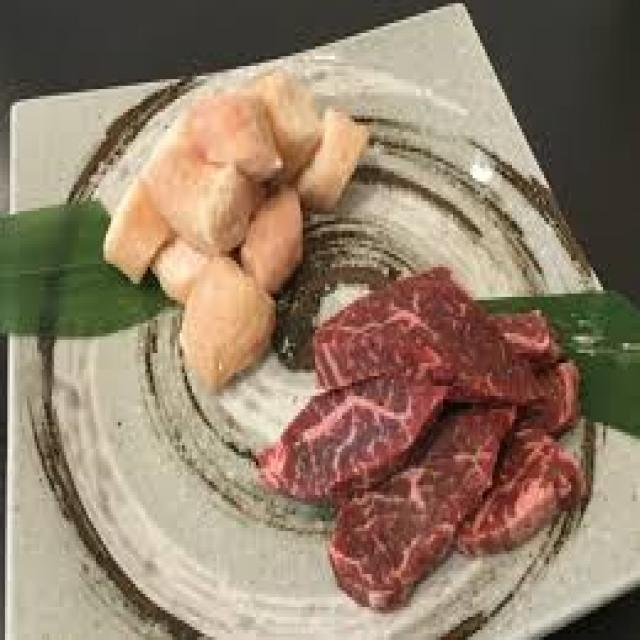organic waste: (254, 307, 556, 498), (327, 409, 512, 607), (310, 264, 539, 399), (472, 287, 638, 439), (0, 201, 172, 333), (453, 426, 583, 554), (138, 118, 251, 250), (177, 251, 271, 386), (185, 89, 278, 182), (290, 106, 367, 214), (237, 174, 306, 294), (251, 66, 318, 188), (101, 168, 170, 284), (512, 356, 578, 432), (145, 224, 202, 294)
